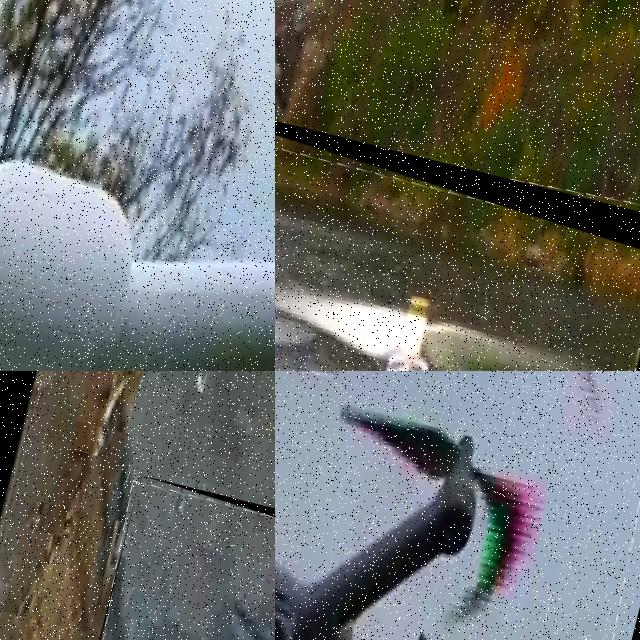0: (21, 475, 275, 640)
drone: (275, 65, 640, 371), (0, 0, 275, 371), (275, 371, 640, 640)
